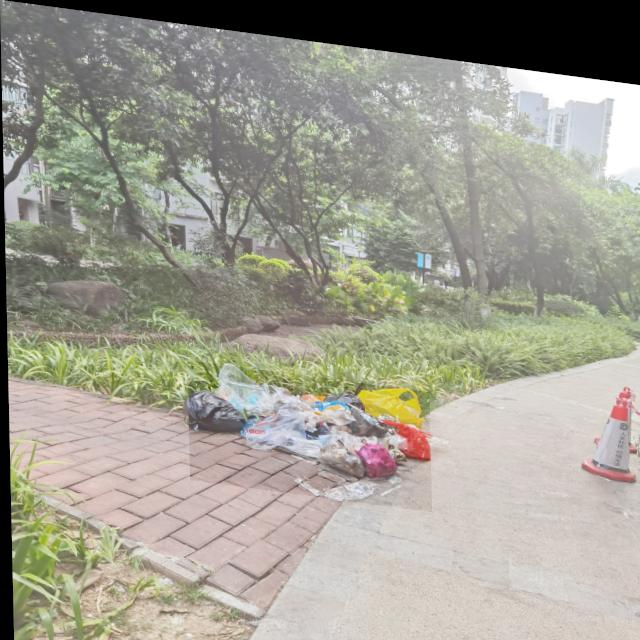garbage: (186, 355, 430, 501)
